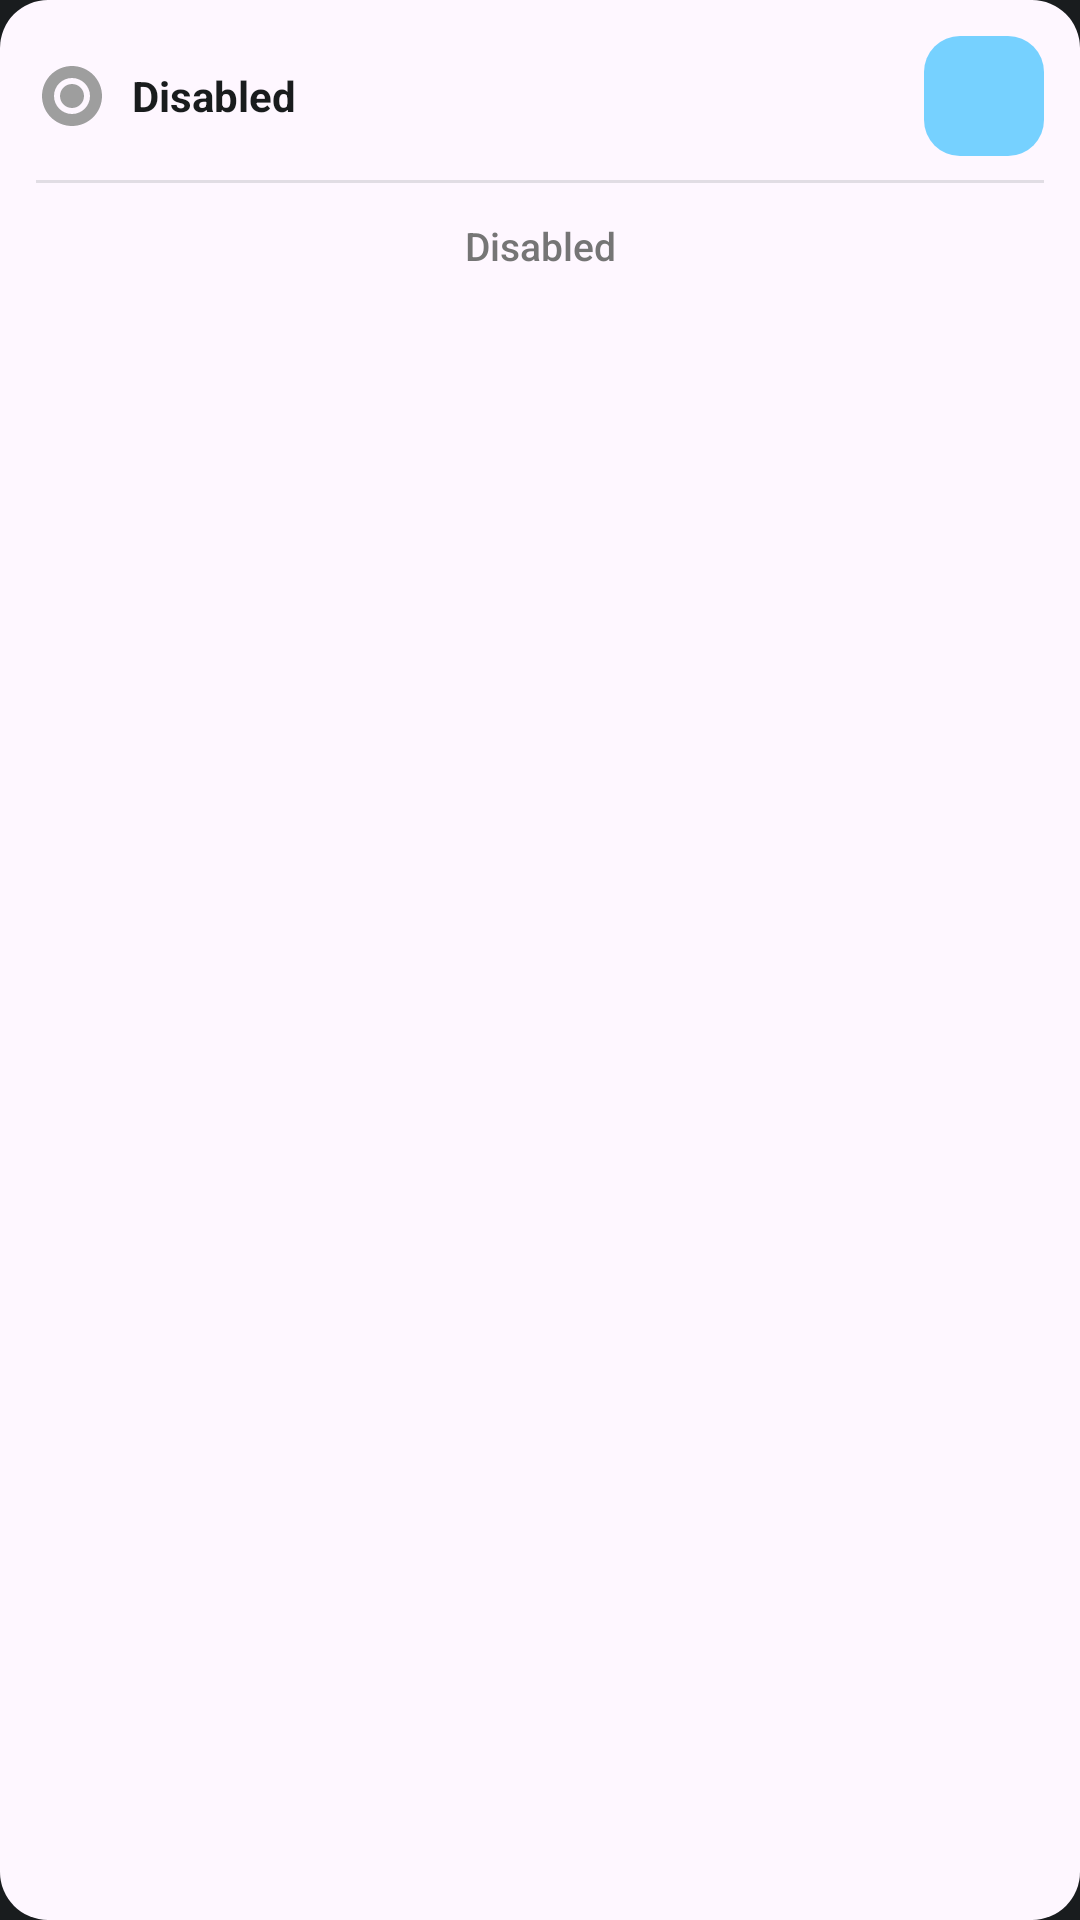

Locate icon controls on the screen. Image size 1080w x 1920h, boxes as (x1, y1, x2, y2).
Status indicator icon: (42, 66, 102, 126)
